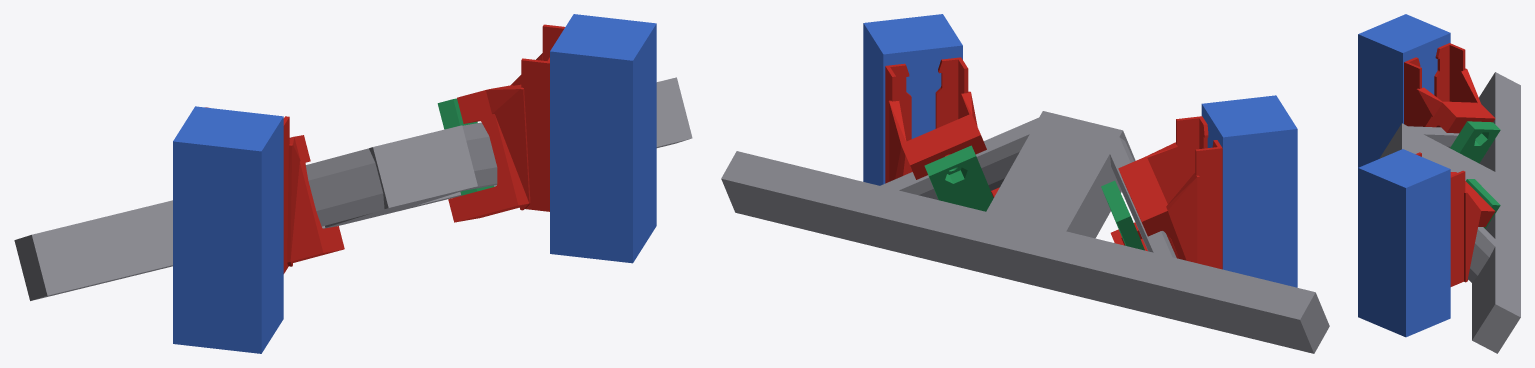
The model's file is assembly_m7.obj.
The picture shows the model from 3 angles, left to right: view 1: azimuth 30°, elevation 25°; view 2: azimuth 150°, elevation 25°; view 3: azimuth 270°, elevation 25°; orthographic projection. The views are drawn at different scales.
Parts seen in each view (by area): view 1: left_light_placeholder, right_light_placeholder, hanger_schematic, right_saddle, left_saddle, right_keeper; view 2: hanger_schematic, left_light_placeholder, left_saddle, right_light_placeholder, right_saddle, right_keeper, left_keeper; view 3: right_light_placeholder, hanger_schematic, left_light_placeholder, left_saddle, right_saddle, left_keeper, right_keeper.
Part boxes in pixels (left/top/right/bottom): left_light_placeholder: left=173, top=106, right=283, bottom=353; right_light_placeholder: left=550, top=14, right=656, bottom=263; hanger_schematic: left=14, top=77, right=692, bottom=300; right_saddle: left=448, top=24, right=564, bottom=222; left_saddle: left=205, top=107, right=344, bottom=273; right_keeper: left=437, top=98, right=494, bottom=195; hanger_schematic: left=721, top=111, right=1329, bottom=353; left_light_placeholder: left=1201, top=95, right=1297, bottom=287; left_saddle: left=1110, top=116, right=1222, bottom=269; right_light_placeholder: left=863, top=14, right=962, bottom=185; right_saddle: left=885, top=57, right=999, bottom=197; right_keeper: left=924, top=145, right=993, bottom=211; left_keeper: left=1101, top=180, right=1144, bottom=250; right_light_placeholder: left=1358, top=149, right=1450, bottom=337; hanger_schematic: left=1379, top=72, right=1520, bottom=353; left_light_placeholder: left=1358, top=14, right=1450, bottom=167; left_saddle: left=1404, top=43, right=1495, bottom=133; right_saddle: left=1415, top=152, right=1495, bottom=286; left_keeper: left=1450, top=121, right=1500, bottom=163; right_keeper: left=1466, top=179, right=1500, bottom=228.
Bounding box in the file's own units: 260 × 78 × 77.02.
